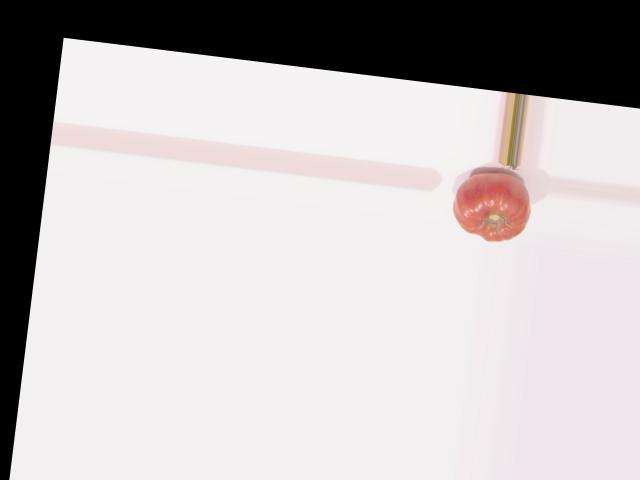tomato: (450, 168, 534, 245)
